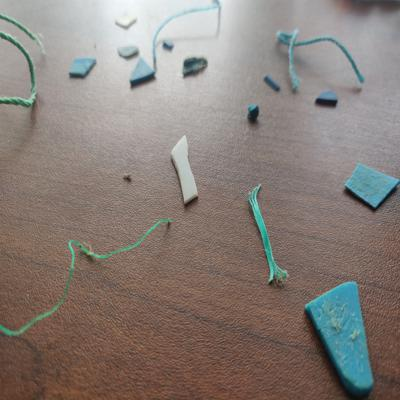plastic: (305, 277, 377, 394), (343, 160, 400, 215), (168, 132, 200, 206), (180, 53, 210, 81), (67, 55, 98, 82), (126, 57, 155, 85), (310, 89, 343, 111), (241, 102, 264, 125)
thread: (1, 215, 177, 341), (275, 22, 372, 94), (151, 1, 229, 84), (242, 181, 293, 292), (1, 9, 45, 112)
